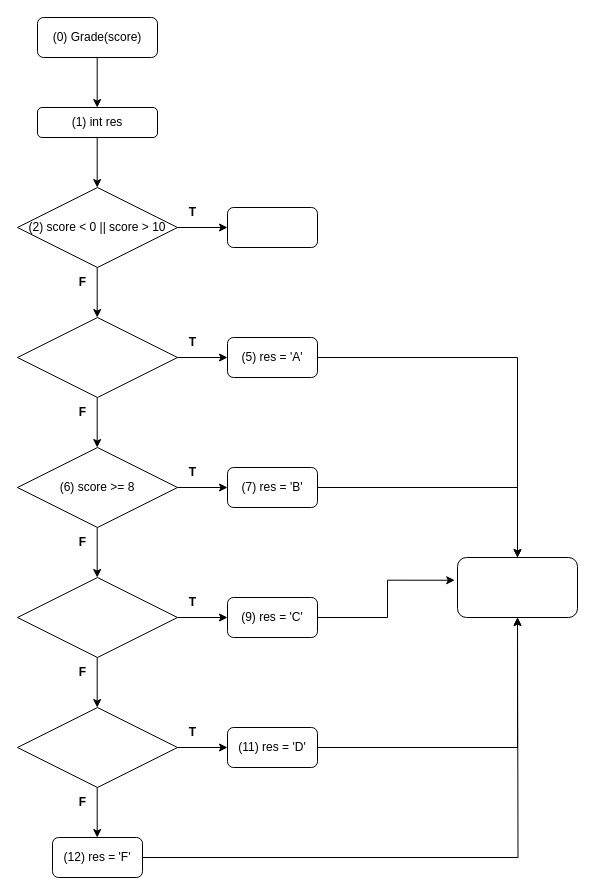
Image size: 595x895. Some labels were removed from this diagram. Each missing label, with the centre of its shape:
(10) score >= 5: point (97, 747)
(13) return res: point (517, 587)
(3) return 'I': point (272, 227)
(4) score >= 9: point (97, 357)
(8) score >= 6.5: point (97, 617)
